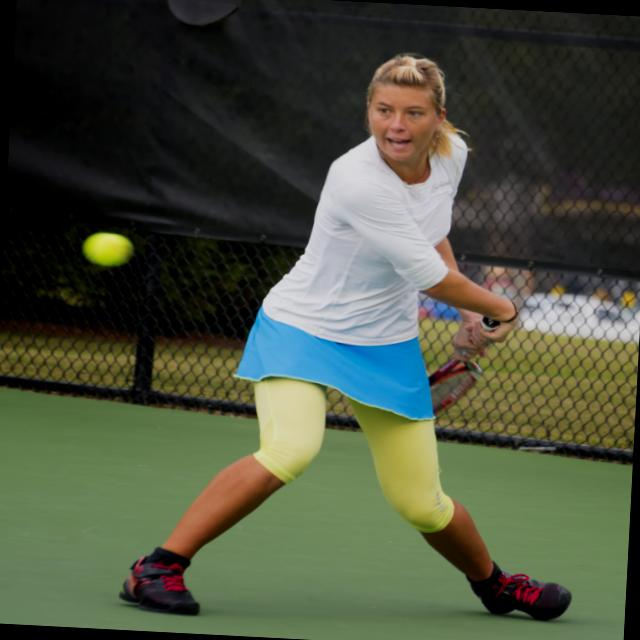Tennis Ball: (84, 231, 136, 270)
